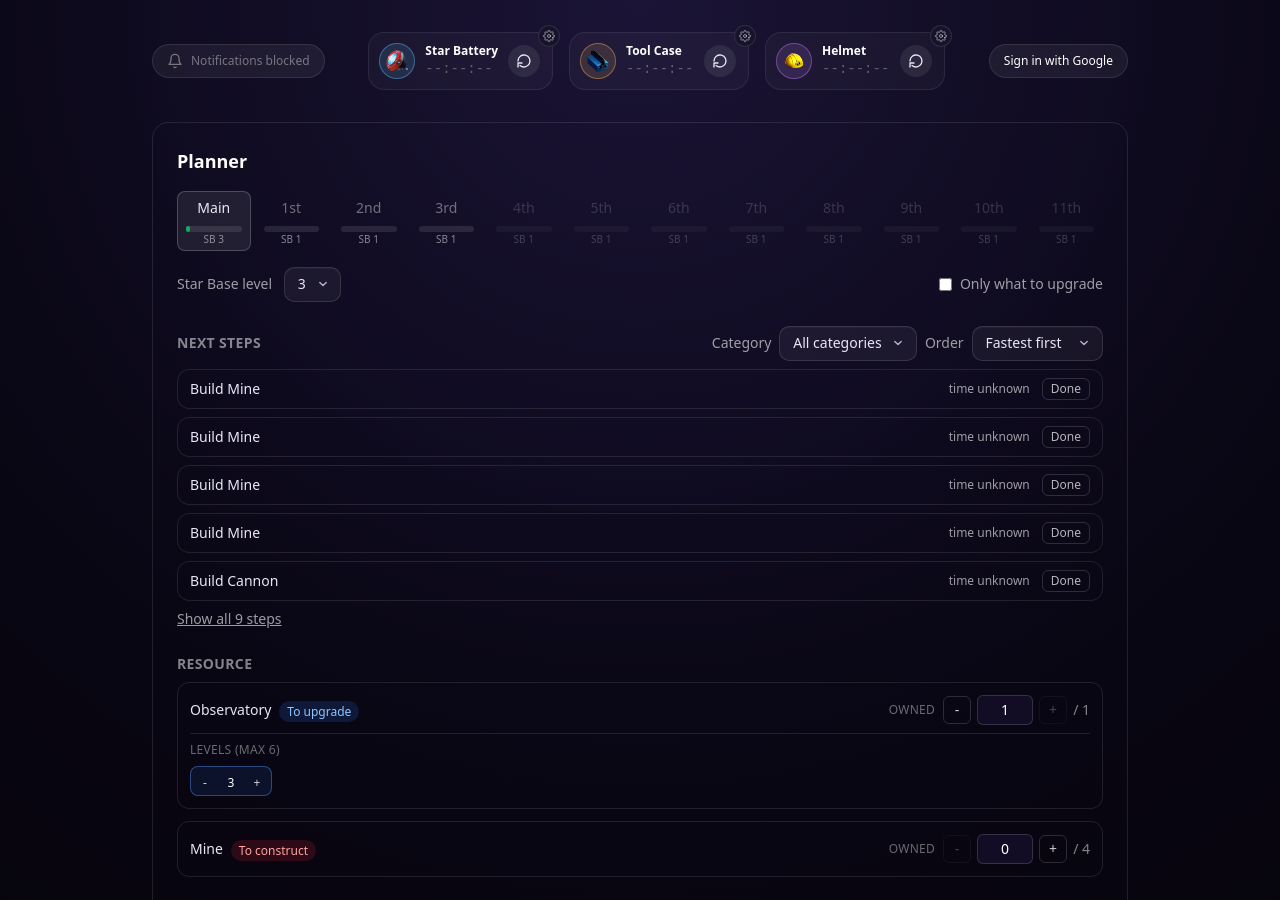
Test: App › Planner › Observatory › relocks Colonies when the Observatory level is lowered
This screenshot has width=1280, height=900.
Click the button named "Decrease Observatory 1 level": [205, 783] box [195,773,215,793]
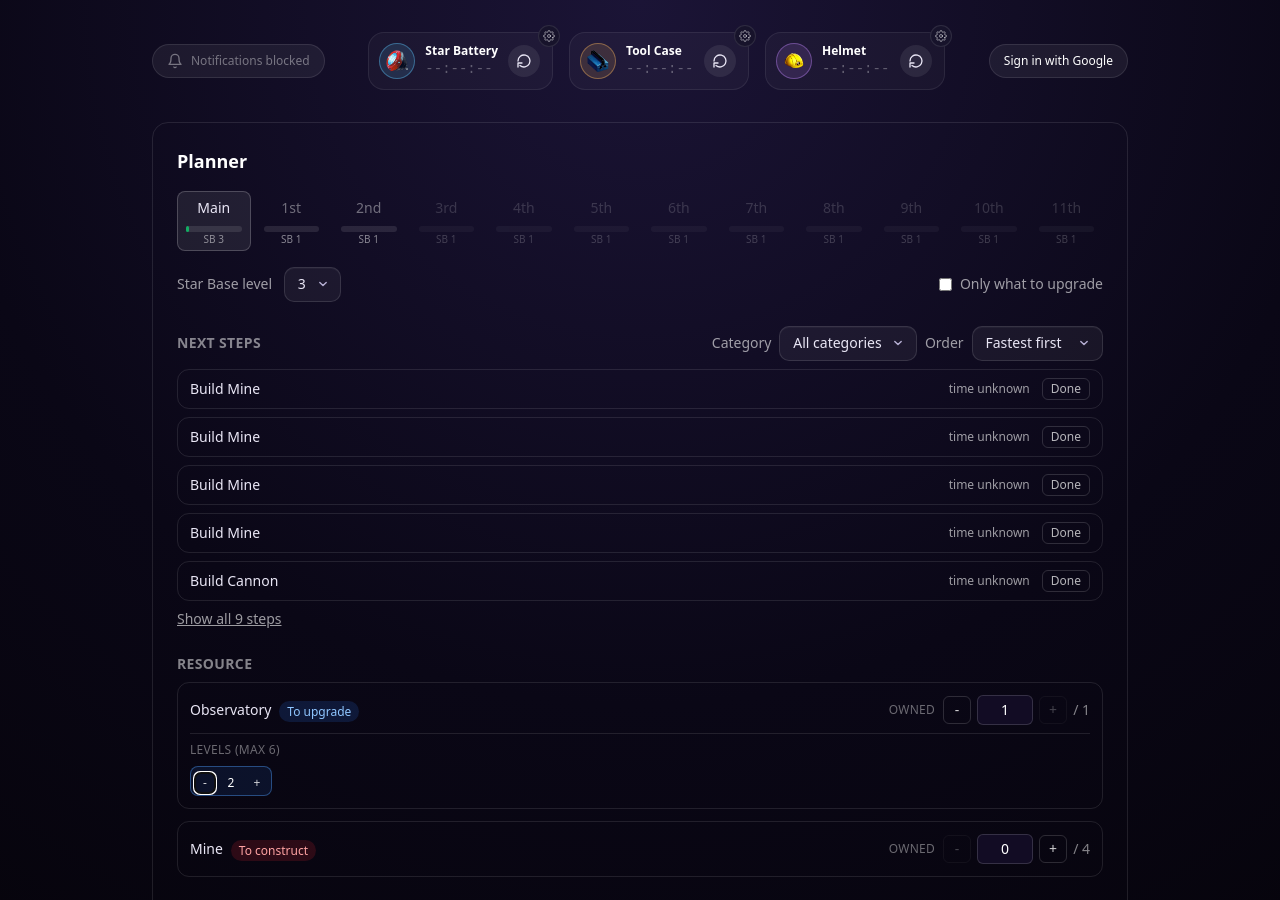
Expected: the tab with aria-label "Colony 2" is enabled, [341,194,396,222]
Expected: the tab with aria-label "Colony 3" is disabled, [418,194,474,222]
